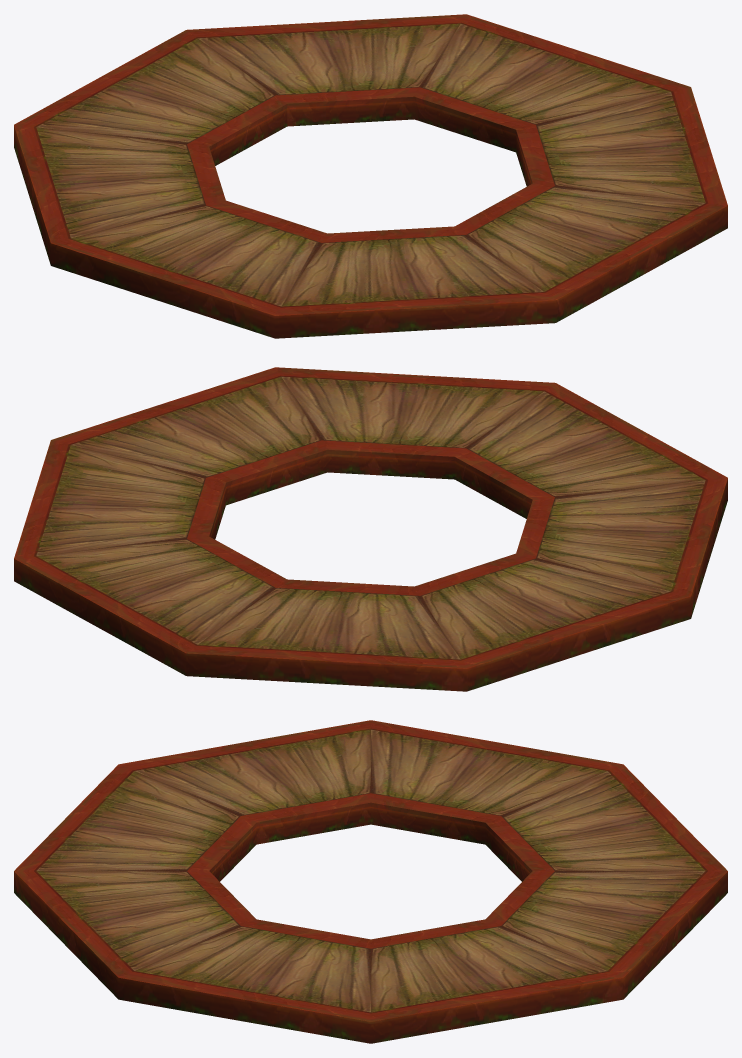
The model's file is environment_Building_jianmushenshu_001_b.FBX.
3 views of the same model, one above another, from view 1: azimuth 30°, elevation 25°; view 2: azimuth 150°, elevation 25°; view 3: azimuth 270°, elevation 25° (orthographic). The views are drawn at different scales.
Visible parts, largest first — view 1: environment_Building_jianmushenshu_001_b2, environment_Building_jianmushenshu_001_b1; view 2: environment_Building_jianmushenshu_001_b2, environment_Building_jianmushenshu_001_b1; view 3: environment_Building_jianmushenshu_001_b2, environment_Building_jianmushenshu_001_b1.
Boxes of the visible parts, x1=… form: environment_Building_jianmushenshu_001_b2: x1=36, y1=23, x2=705, y2=306; environment_Building_jianmushenshu_001_b1: x1=14, y1=14, x2=727, y2=338; environment_Building_jianmushenshu_001_b2: x1=36, y1=376, x2=705, y2=659; environment_Building_jianmushenshu_001_b1: x1=14, y1=367, x2=727, y2=691; environment_Building_jianmushenshu_001_b2: x1=36, y1=729, x2=705, y2=1012; environment_Building_jianmushenshu_001_b1: x1=14, y1=720, x2=727, y2=1043.
Size of the model in its own units: 1559 by 1559 by 52.81.
